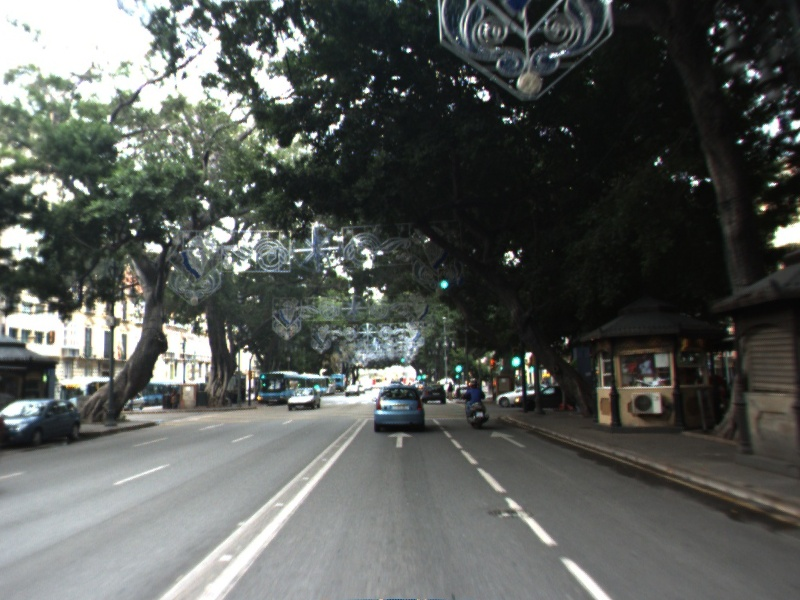STRAIGHT: (488, 429, 528, 449), (386, 430, 415, 449)
